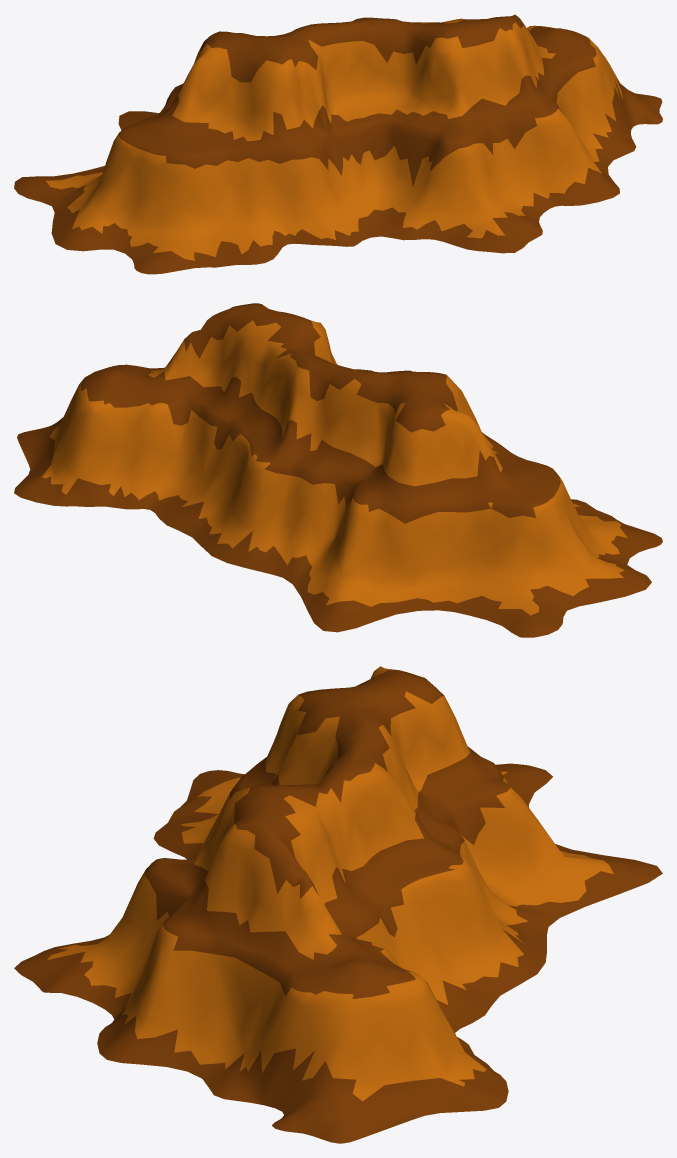
The model's file is Mountain.fbx.
3 views of the same model, one above another, from view 1: azimuth 30°, elevation 25°; view 2: azimuth 150°, elevation 25°; view 3: azimuth 270°, elevation 25° (orthographic). The views are drawn at different scales.
Parts seen in each view (by area): view 1: mountains; view 2: mountains; view 3: mountains.
Boxes of the visible parts, left/top/right/bottom form: mountains: left=14, top=14, right=662, bottom=274; mountains: left=14, top=303, right=662, bottom=637; mountains: left=14, top=666, right=662, bottom=1143.
Bounding box in the file's own units: 8826 × 2081 × 6119.
1 material, 1 textured.
